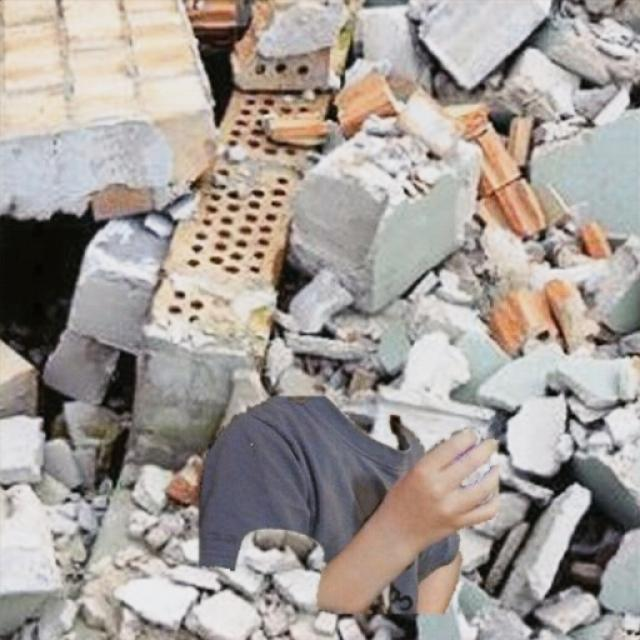Person in Rubble: (198, 397, 498, 612)
